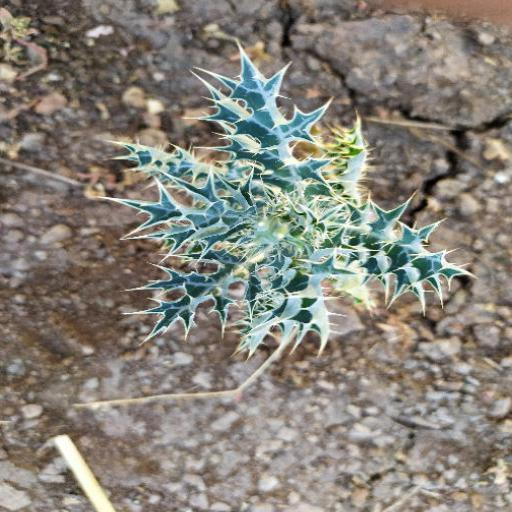weed: (102, 41, 476, 353)
